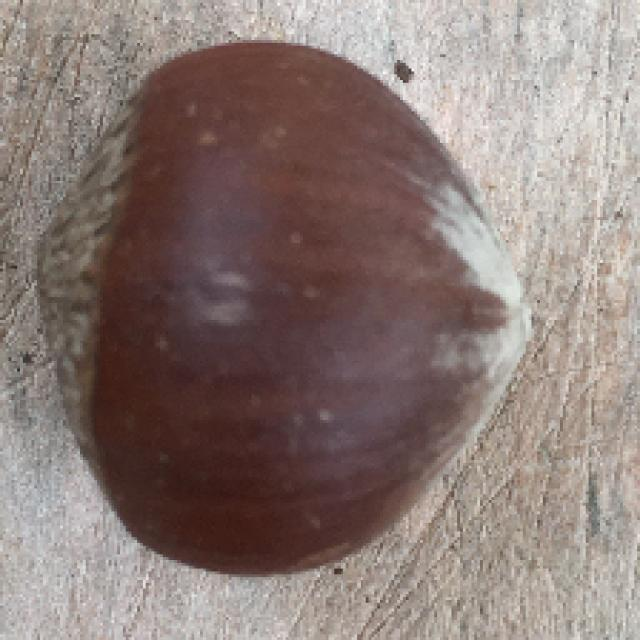qualityHazelnut: (31, 32, 537, 573)
